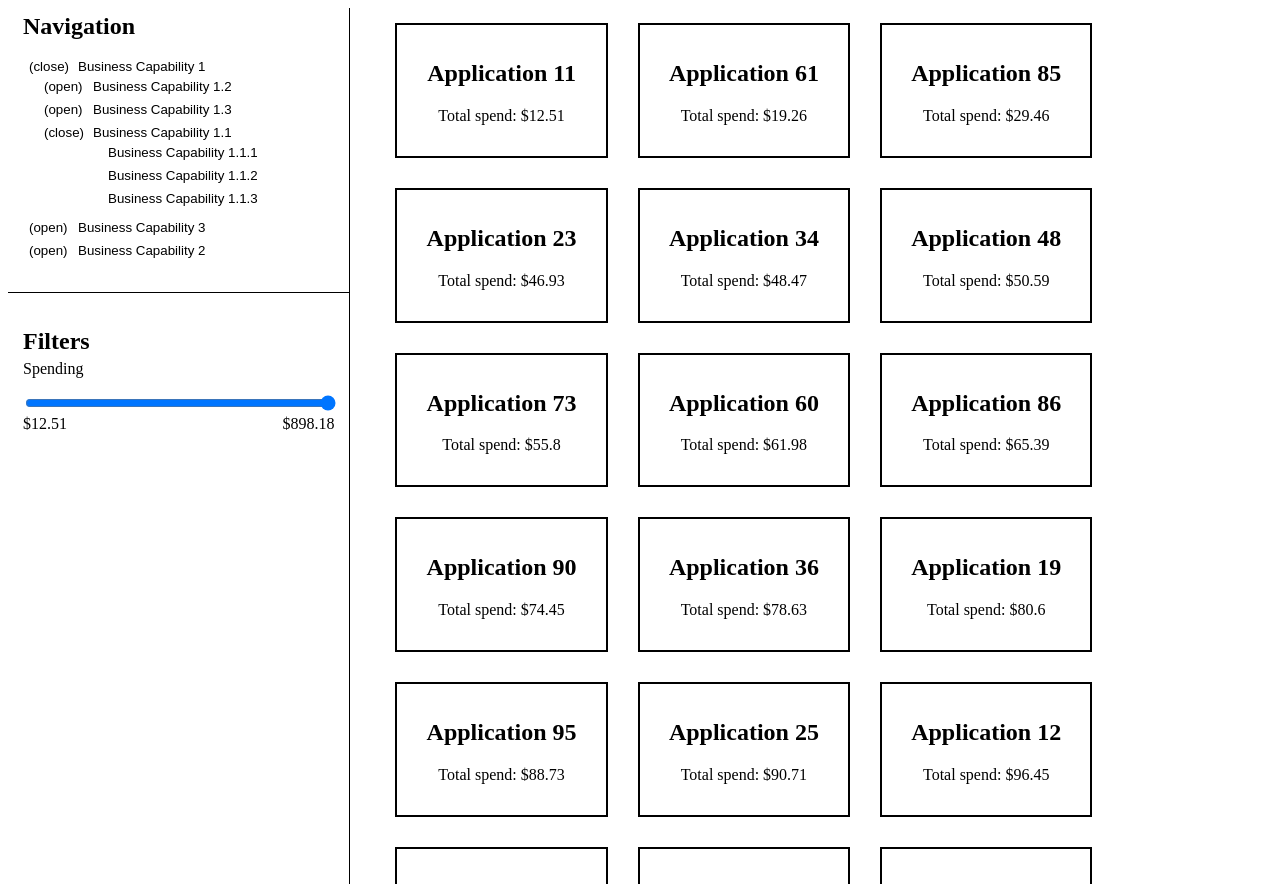
Test: App › Navigation › should correctly select and unselect capability when clicking on it
The image size is (1280, 884).
Expected: the heading "Navigation" is shown, top-left (23, 13), bottom-right (135, 39)
What coordinates should you click on to do the following:
click the button with test id "select-Business Capability 1"
I would click on:
 (117, 66)
Its box is top-left (23, 58), bottom-right (211, 75).
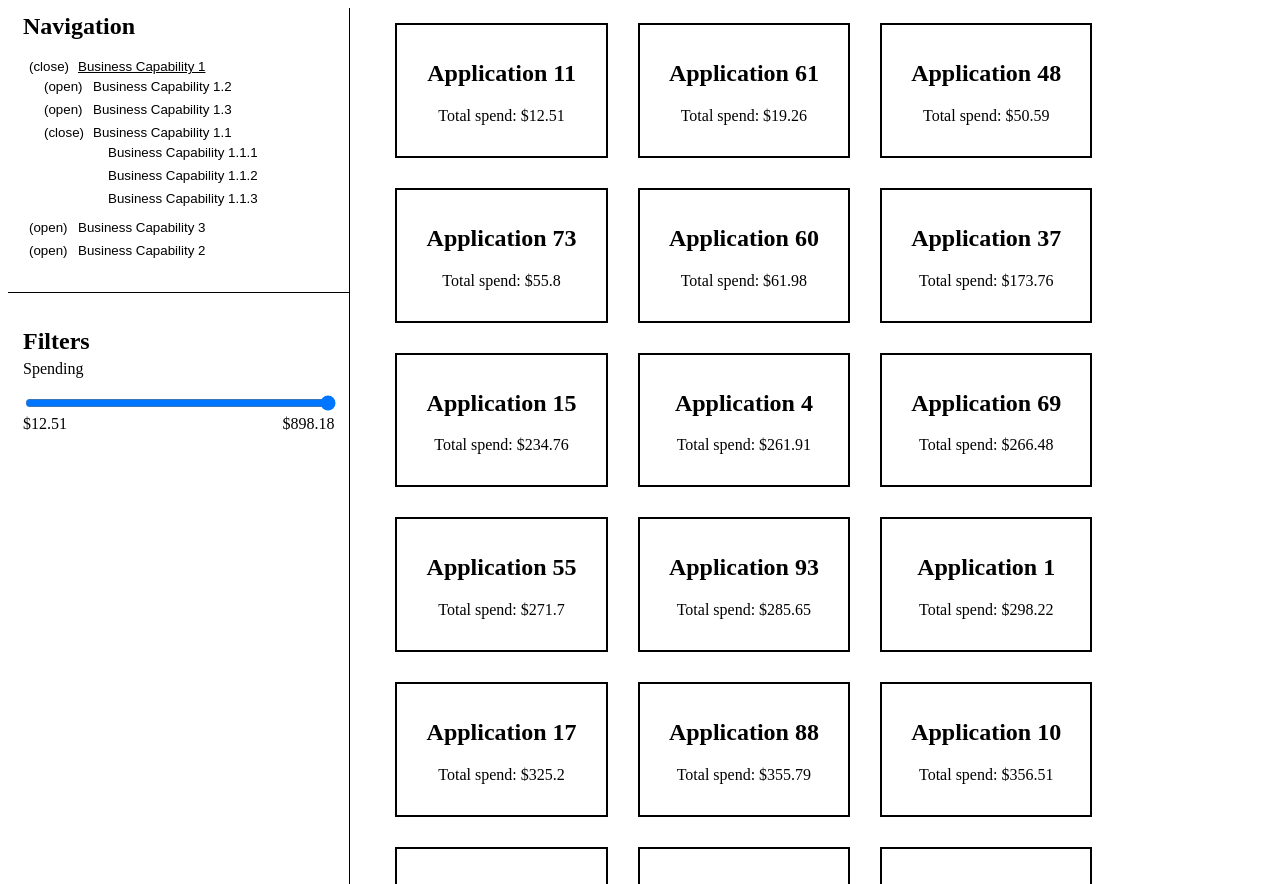
Now the number of elements with test id "application-item" is 32
What coordinates should you click on to do the following:
click the button with test id "unselect-Business Capability 1"
I would click on:
 (117, 66)
Its box is top-left (23, 58), bottom-right (211, 75).
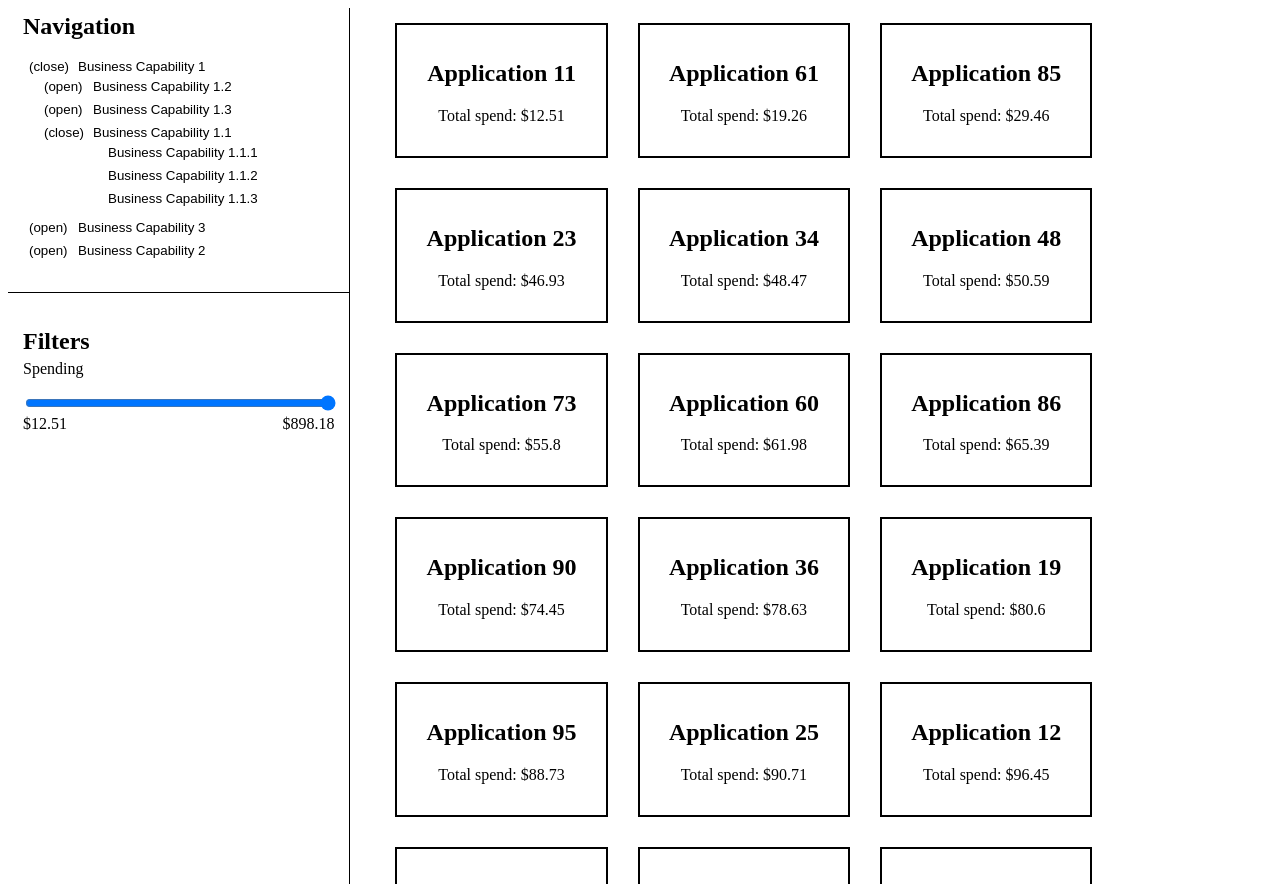
Now the number of elements with test id "application-item" is 100
